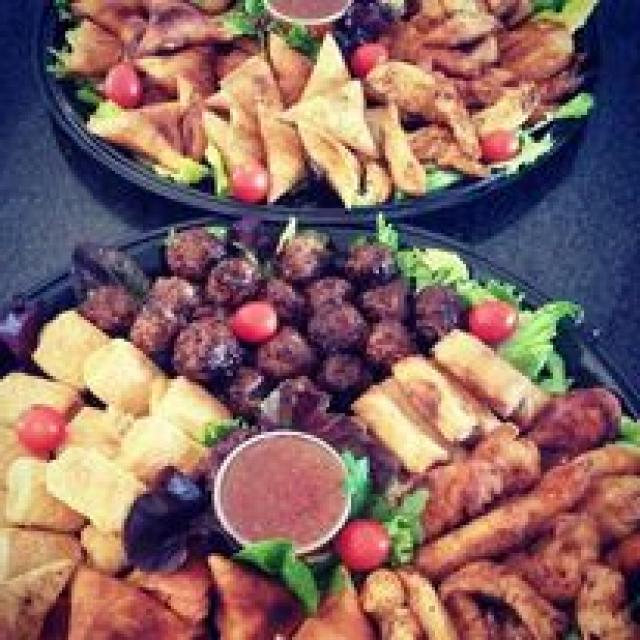Samosa: (208, 38, 408, 196), (78, 540, 366, 637)
Spring Rolls: (354, 329, 553, 466)
